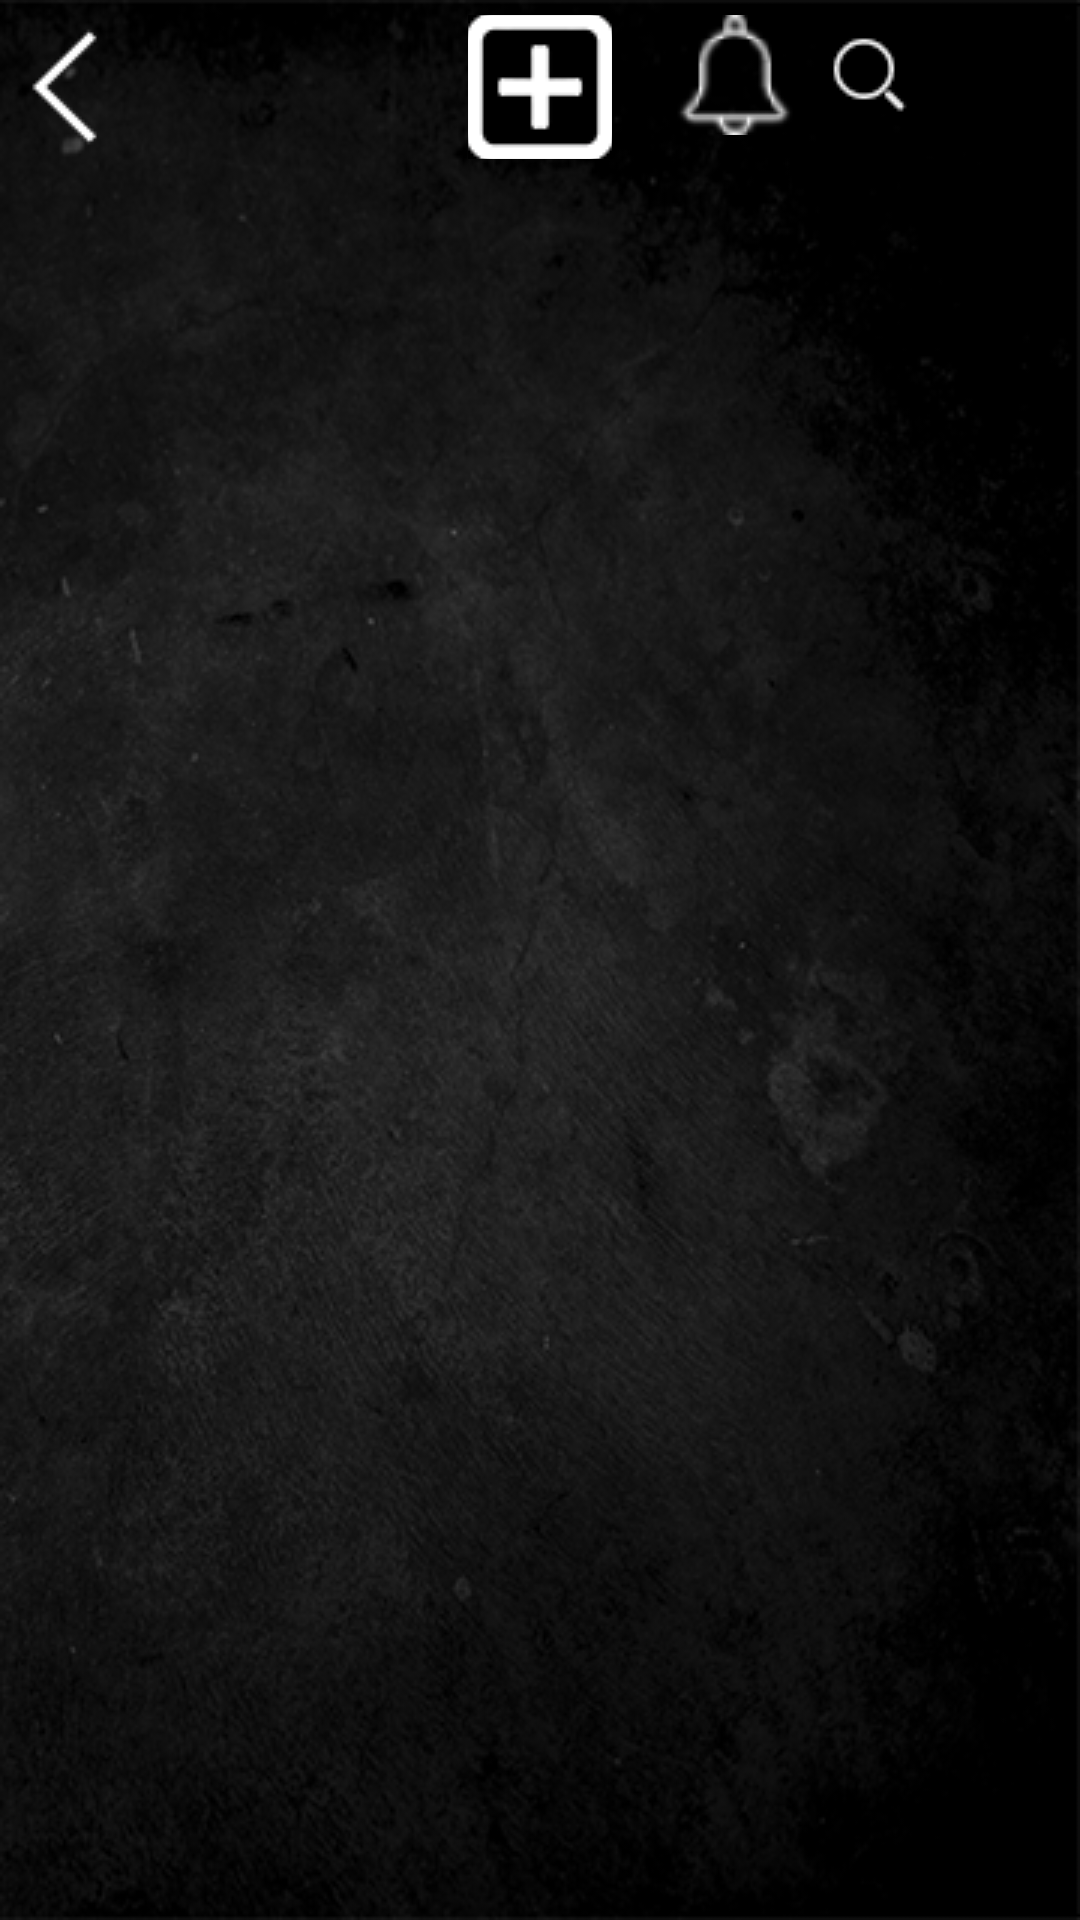

Named icons in this screenshot (1080*1920) and their bounding boxes, box=[x1, y1, x2, y2]:
addbuttonwhite: box=[468, 15, 612, 159]
backbutton: box=[32, 31, 97, 153]
bell: box=[680, 15, 790, 135]
search: box=[833, 38, 906, 112]
